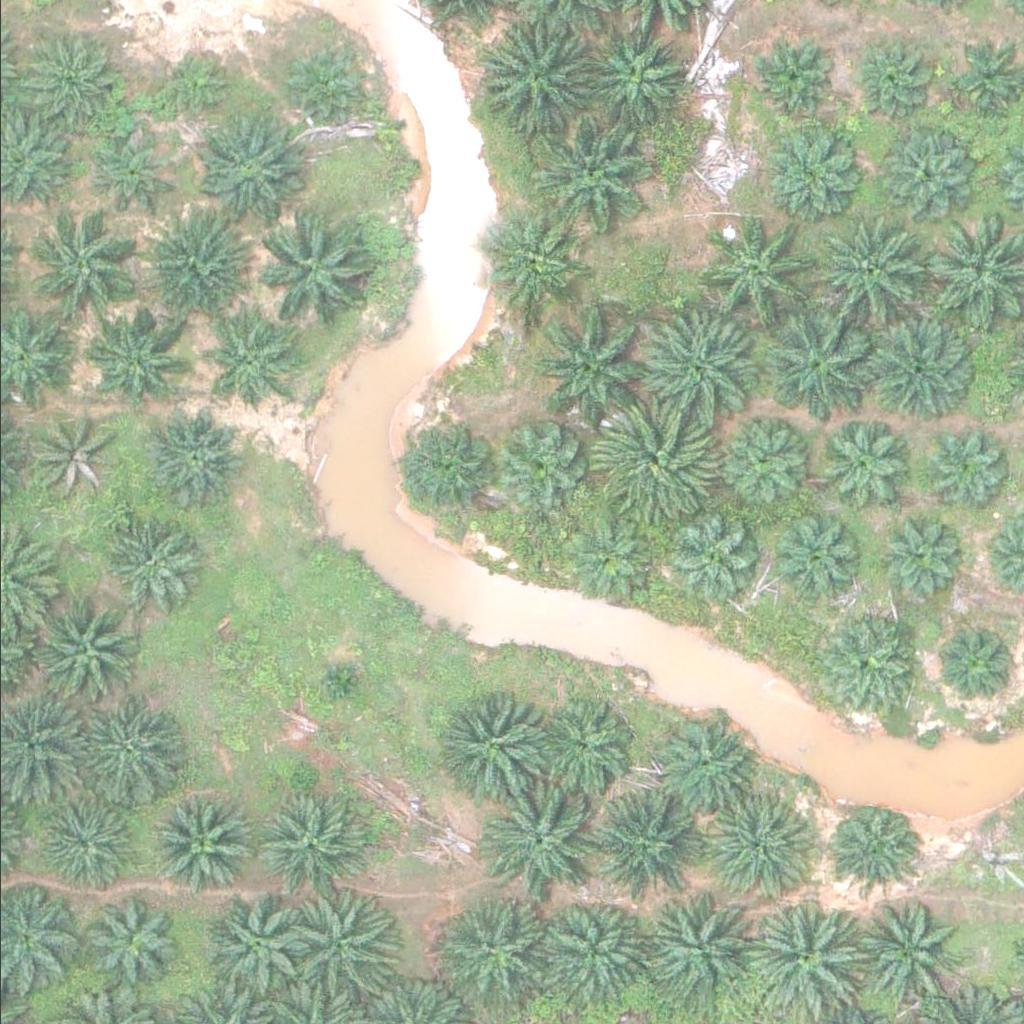Kelapa_Sawit: (541, 900, 655, 1013), (478, 17, 592, 130), (636, 891, 750, 1004), (700, 789, 814, 902), (863, 306, 977, 419), (430, 688, 543, 801), (261, 214, 374, 327), (188, 108, 301, 221), (600, 405, 713, 518), (766, 310, 879, 423), (29, 213, 143, 325), (592, 788, 706, 900), (638, 317, 752, 429), (439, 892, 552, 1004), (291, 892, 404, 1004), (482, 780, 595, 892), (28, 594, 141, 706), (537, 306, 650, 418), (133, 204, 246, 316), (537, 117, 650, 229), (860, 902, 973, 1014), (746, 906, 859, 1018), (700, 218, 813, 330), (809, 218, 922, 330), (75, 893, 176, 993), (205, 894, 306, 994), (532, 695, 633, 795), (99, 510, 200, 610), (79, 306, 180, 406), (820, 614, 921, 714), (759, 506, 860, 606), (866, 123, 967, 223), (585, 24, 686, 124), (652, 714, 753, 814), (255, 795, 355, 895), (146, 796, 246, 896), (30, 796, 130, 896), (70, 698, 170, 798), (398, 416, 498, 516), (145, 407, 245, 507), (477, 213, 577, 313), (19, 31, 119, 131), (714, 416, 814, 516), (810, 420, 910, 520), (761, 122, 861, 222), (503, 420, 591, 508), (85, 131, 173, 219), (277, 36, 365, 124), (568, 517, 656, 605), (919, 426, 1007, 514), (744, 34, 832, 122), (26, 416, 114, 503), (196, 318, 284, 405), (832, 802, 920, 889), (930, 621, 1018, 708), (660, 515, 748, 602), (881, 510, 969, 597), (854, 32, 942, 119), (159, 48, 234, 123), (317, 653, 368, 703)
